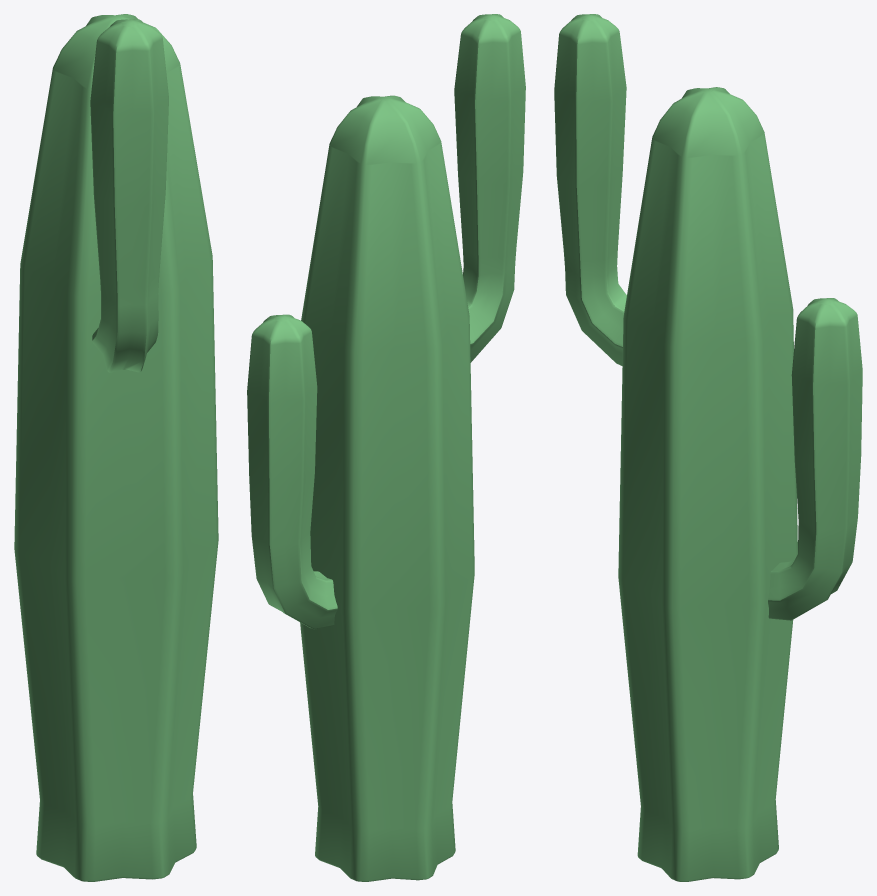
The model's file is Cactus_4.fbx.
3 views of the same model, side by side, from view 1: azimuth 30°, elevation 25°; view 2: azimuth 150°, elevation 25°; view 3: azimuth 270°, elevation 25° (orthographic). The views are drawn at different scales.
Visible parts, largest first — view 1: cactus_3; view 2: cactus_3; view 3: cactus_3.
Boxes of the visible parts, left/top/right/bottom form: cactus_3: left=14, top=14, right=218, bottom=881; cactus_3: left=247, top=14, right=525, bottom=881; cactus_3: left=554, top=14, right=862, bottom=881.
Size of the model in its own units: 41.24 by 214 by 73.4.
